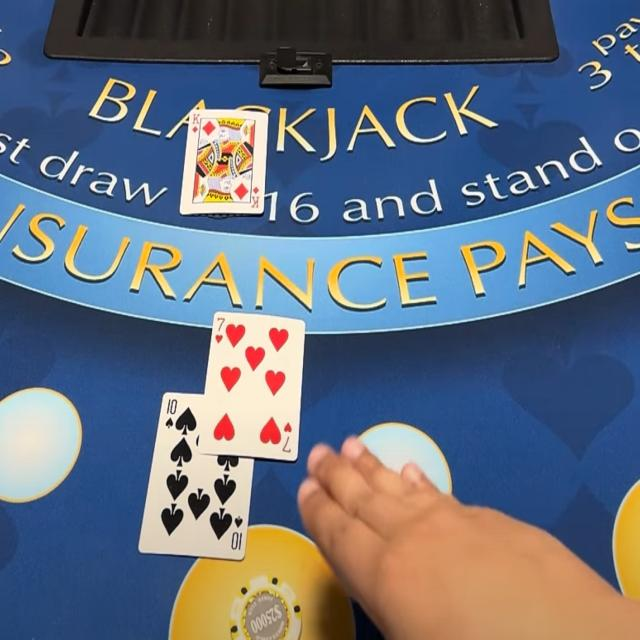10: (164, 396, 179, 416)
7: (215, 315, 226, 332)
K: (191, 112, 201, 125)
